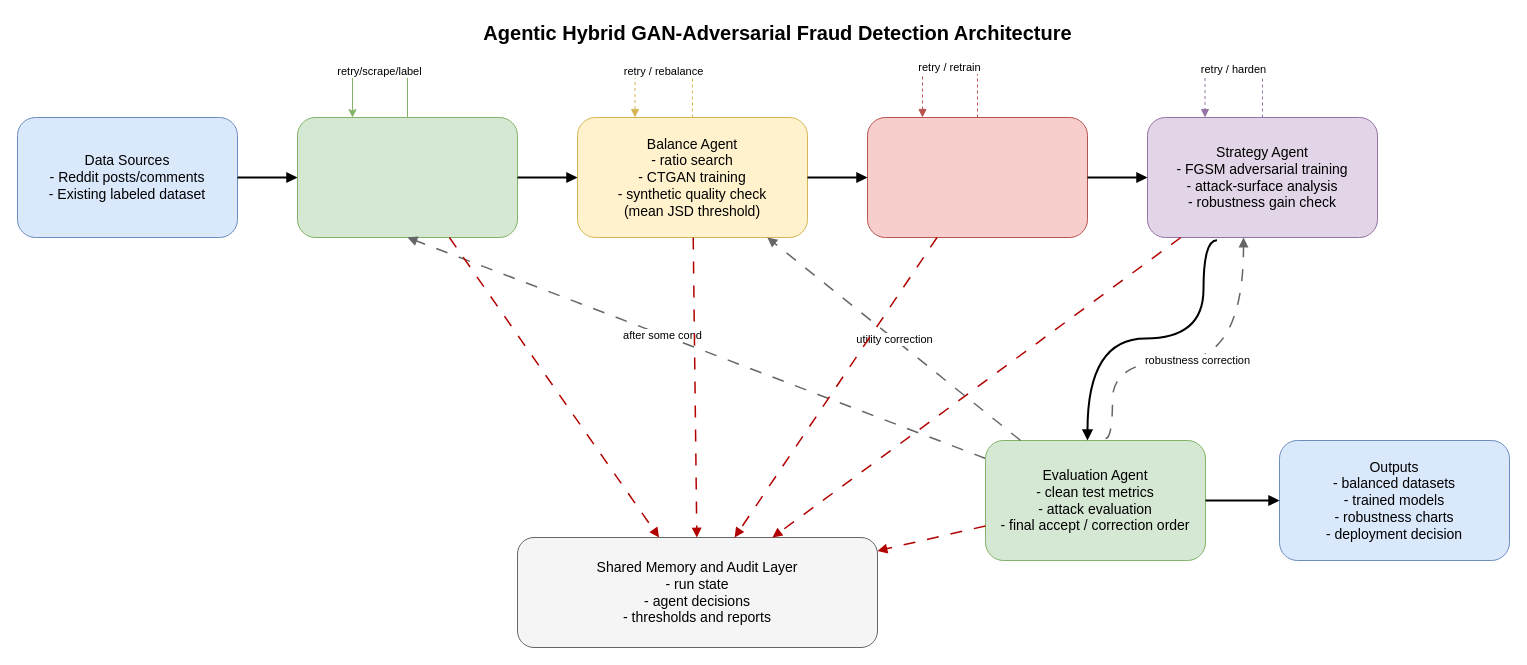
The diagram is 1527 pixels wide and 665 high, and some of its shapes have lost their labels. Here are the shapes that lost their labels. From the top down, the centre of each, then its label:
At (x=407, y=177): "Ingestion Agent - scrape - label - post-process - drift and quality review".
At (x=977, y=177): "Training Agent - baseline XGBoost - metric validation - model checkpointing".
